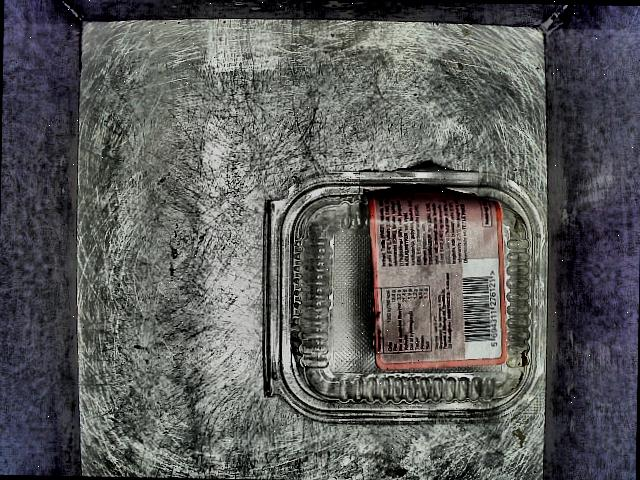Plastic: (242, 164, 556, 434)
